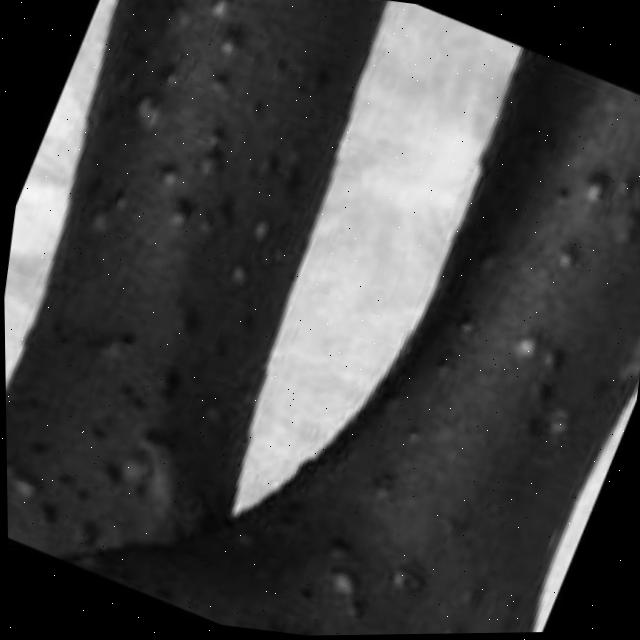Eczema: (294, 103, 640, 636), (48, 0, 318, 428)
